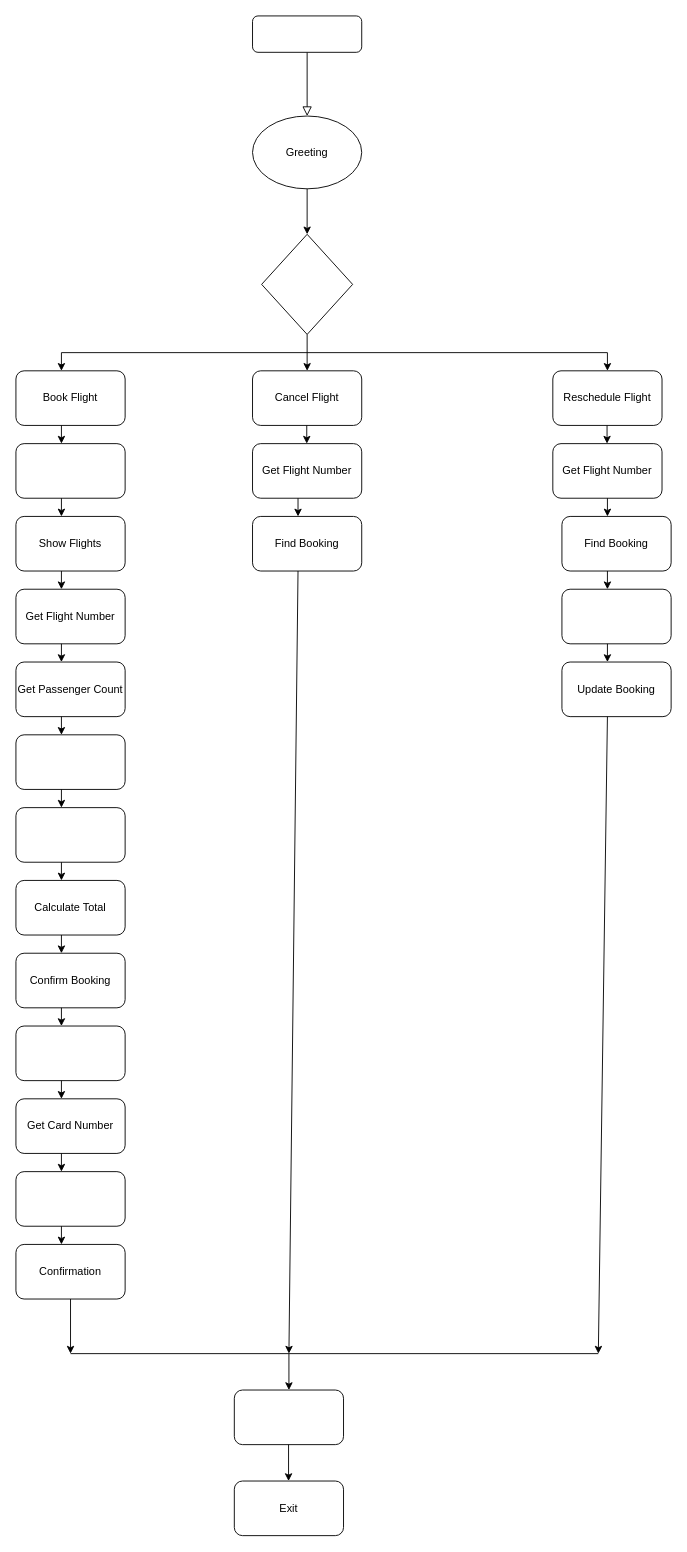
Some shapes in this 687 by 1552 pixel diagram are drawn without their labels. Each missing label, with the centre of its shape:
"Ask for more Help" belongs at (288,1417).
"Get Email" belongs at (70,1053).
"Get Extra Baggage" belongs at (70,834).
"Get New Date" belongs at (616,616).
"Get Passenger Names" belongs at (70,761).
"Get Route" belongs at (70,470).
"Save Booking" belongs at (70,1198).
"Start" belongs at (307,33).
"User Intent Classification" belongs at (307,283).
